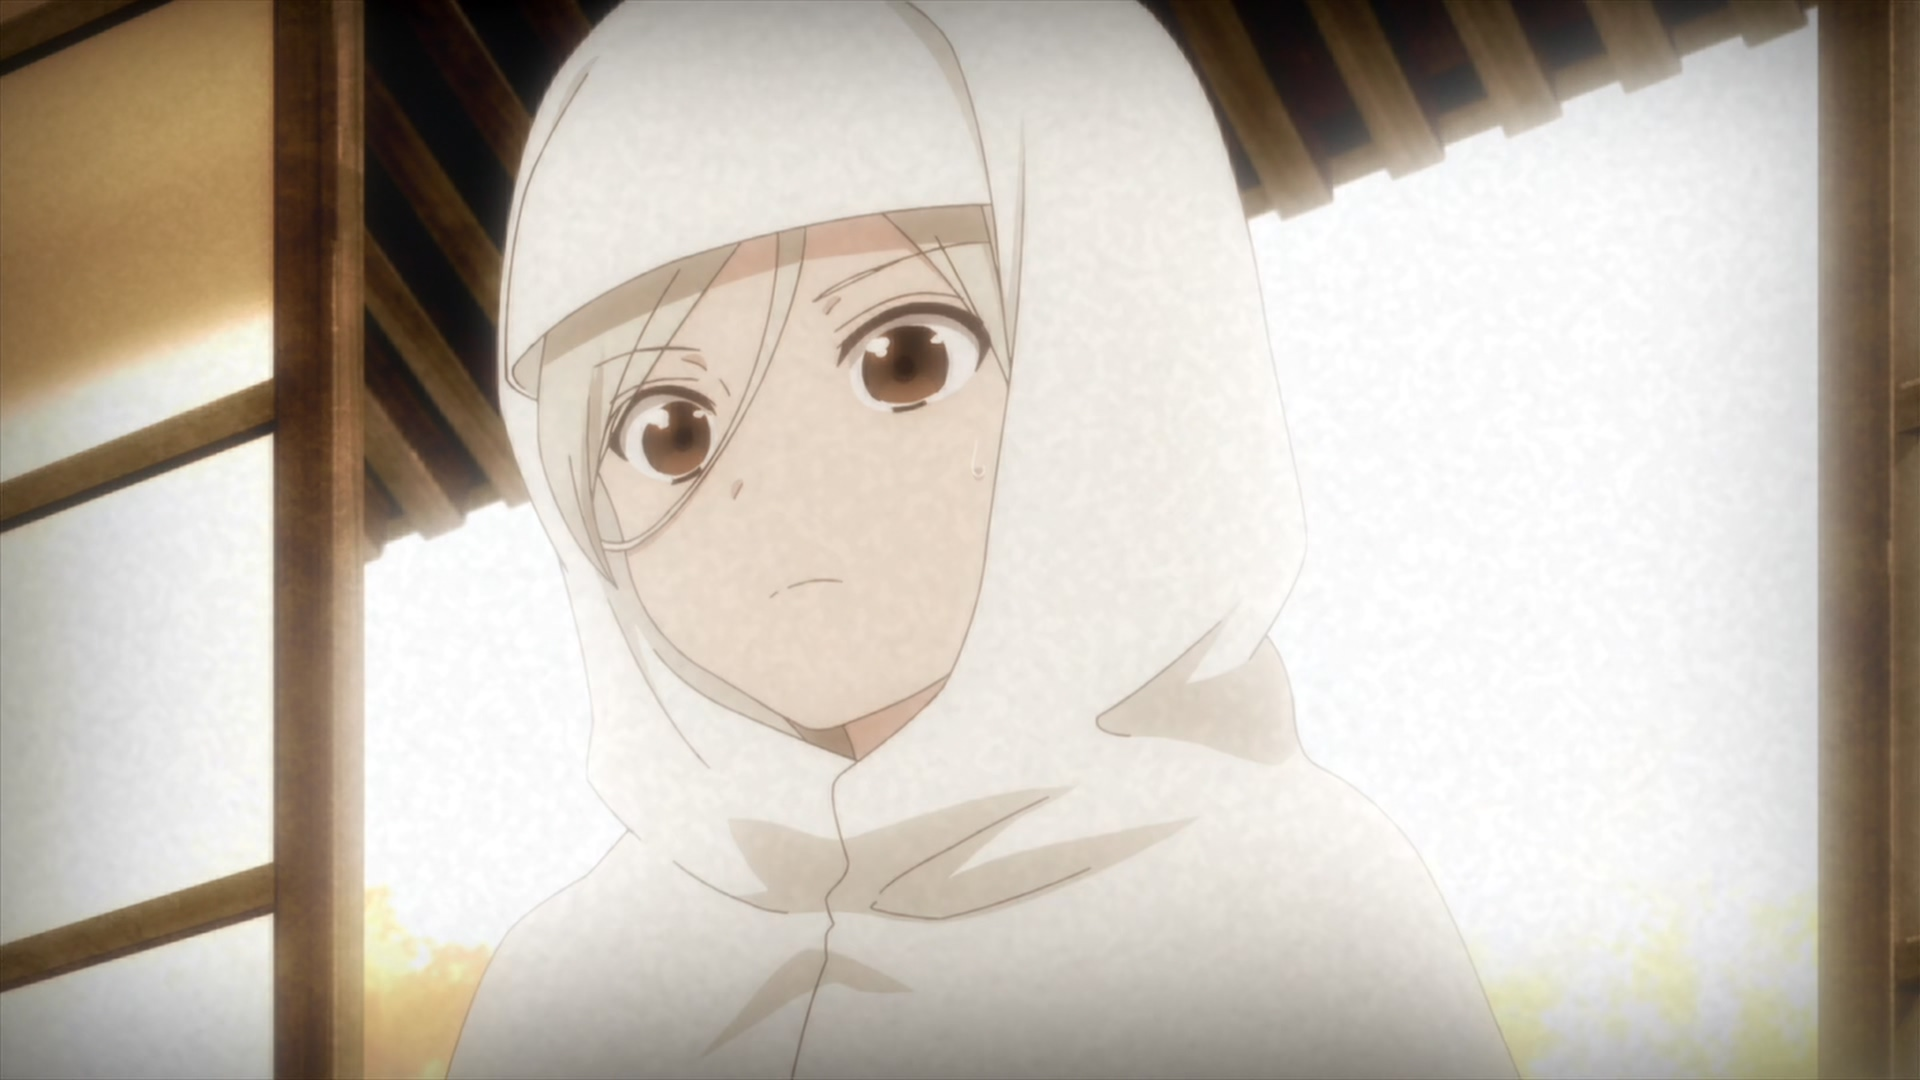八百比丘尼: (448, 1, 1520, 1080)
